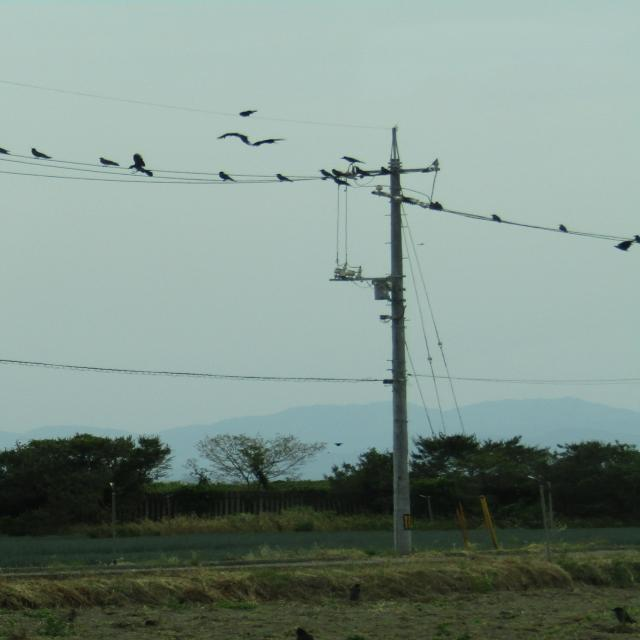pole: (314, 114, 466, 565)
